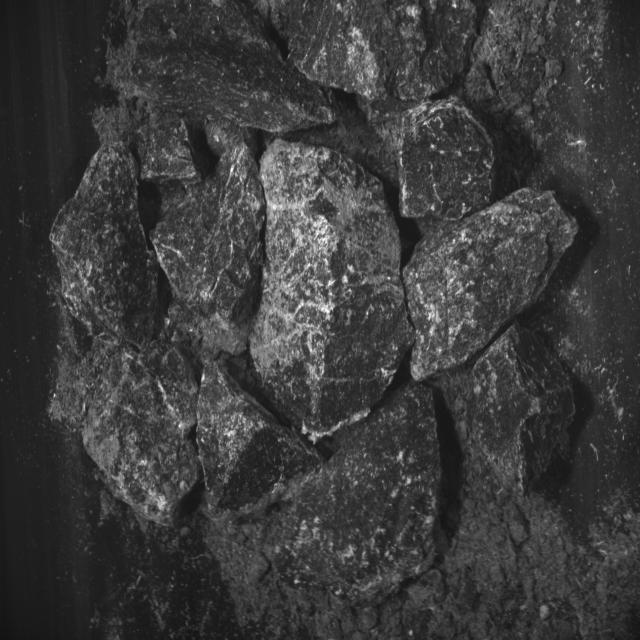Stones: (251, 140, 415, 441), (269, 384, 442, 602), (404, 189, 579, 381), (109, 1, 336, 134), (152, 143, 266, 355), (84, 336, 202, 525), (51, 143, 160, 346), (290, 1, 477, 102), (199, 362, 320, 510), (471, 325, 576, 493), (400, 98, 495, 229), (137, 113, 201, 183)
